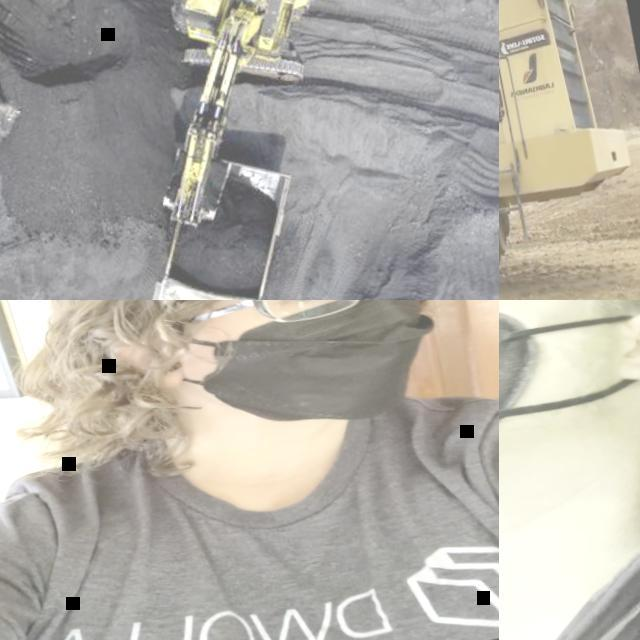Robbery: (6, 310, 488, 640), (501, 303, 640, 639)
